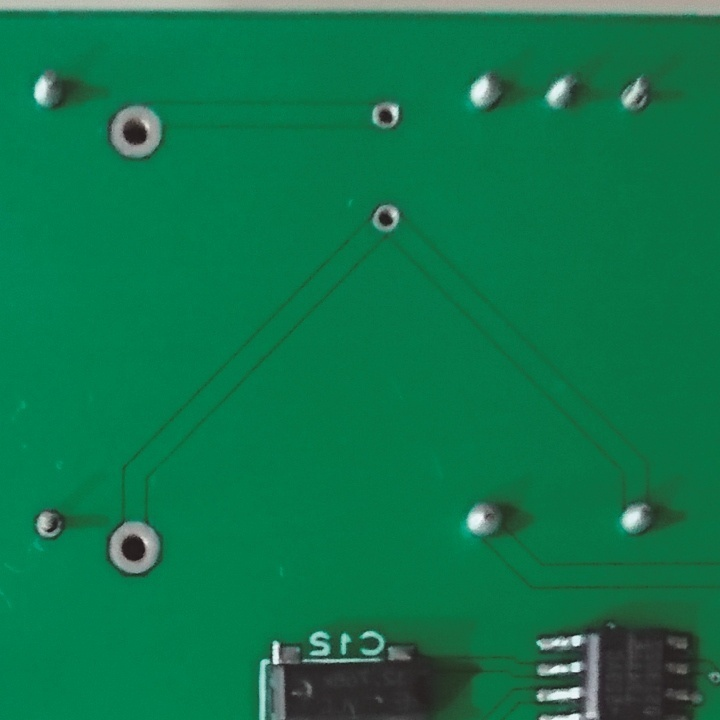F: (106, 103, 169, 165), (101, 518, 162, 582), (619, 72, 655, 118), (372, 200, 407, 240), (366, 98, 406, 132), (30, 506, 65, 544)
